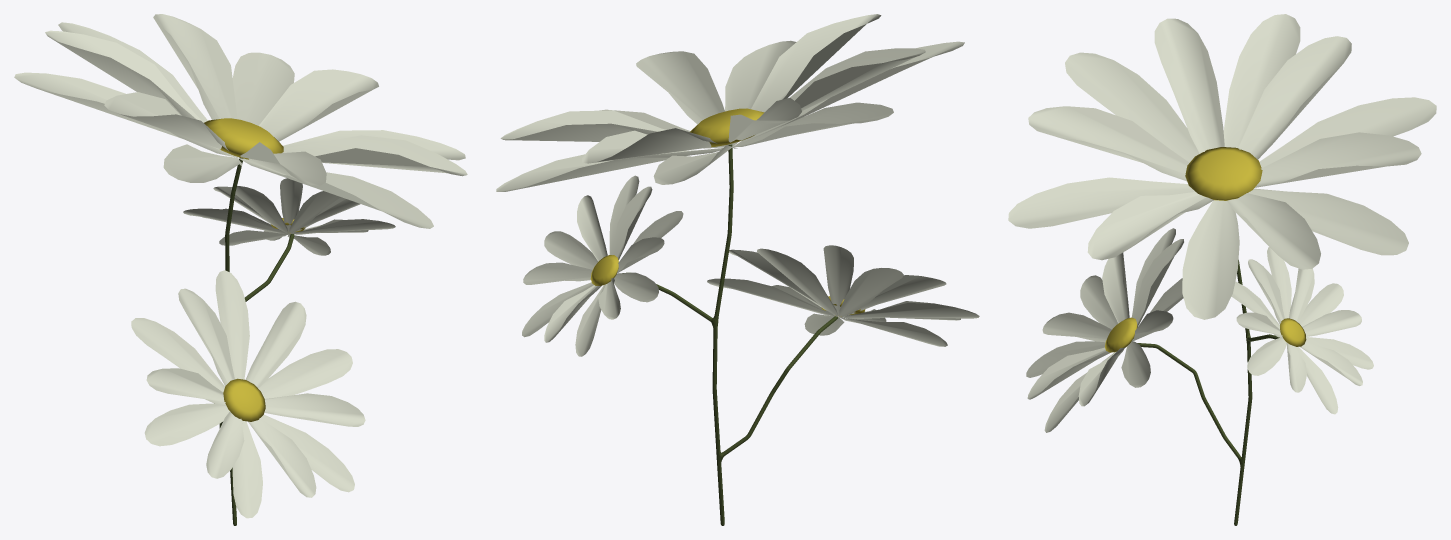
File: romashke.fbx
3 views of the same model, side by side, from view 1: azimuth 30°, elevation 25°; view 2: azimuth 150°, elevation 25°; view 3: azimuth 270°, elevation 25° (orthographic). The views are drawn at different scales.
Visible parts, largest first — view 1: Circle.001, Cube; view 2: Circle.001, Cube; view 3: Circle.001, Cube.
Part boxes in pixels (bbox=[...]): Circle.001: bbox=[14, 14, 467, 518]; Cube: bbox=[219, 157, 294, 525]; Circle.001: bbox=[496, 14, 979, 356]; Cube: bbox=[622, 144, 837, 525]; Circle.001: bbox=[1008, 14, 1436, 432]; Cube: bbox=[1137, 260, 1279, 525].
Size of the model in its own units: 41.75 by 47.64 by 42.48.
